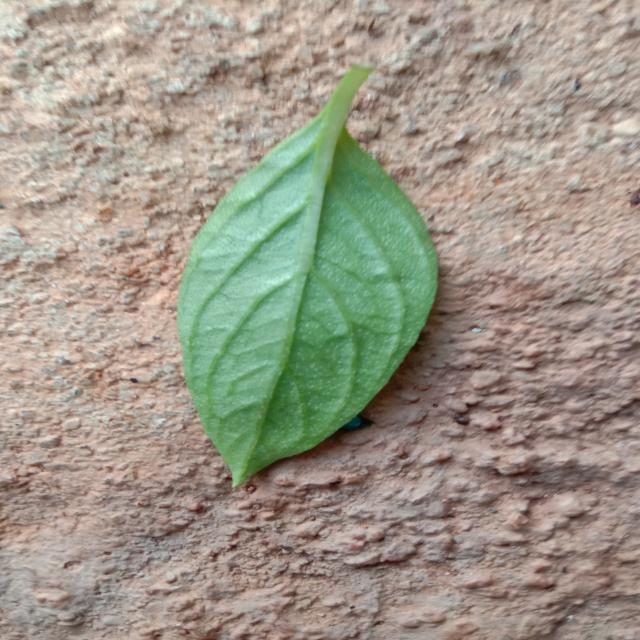kamakasturi: (177, 65, 438, 486)
